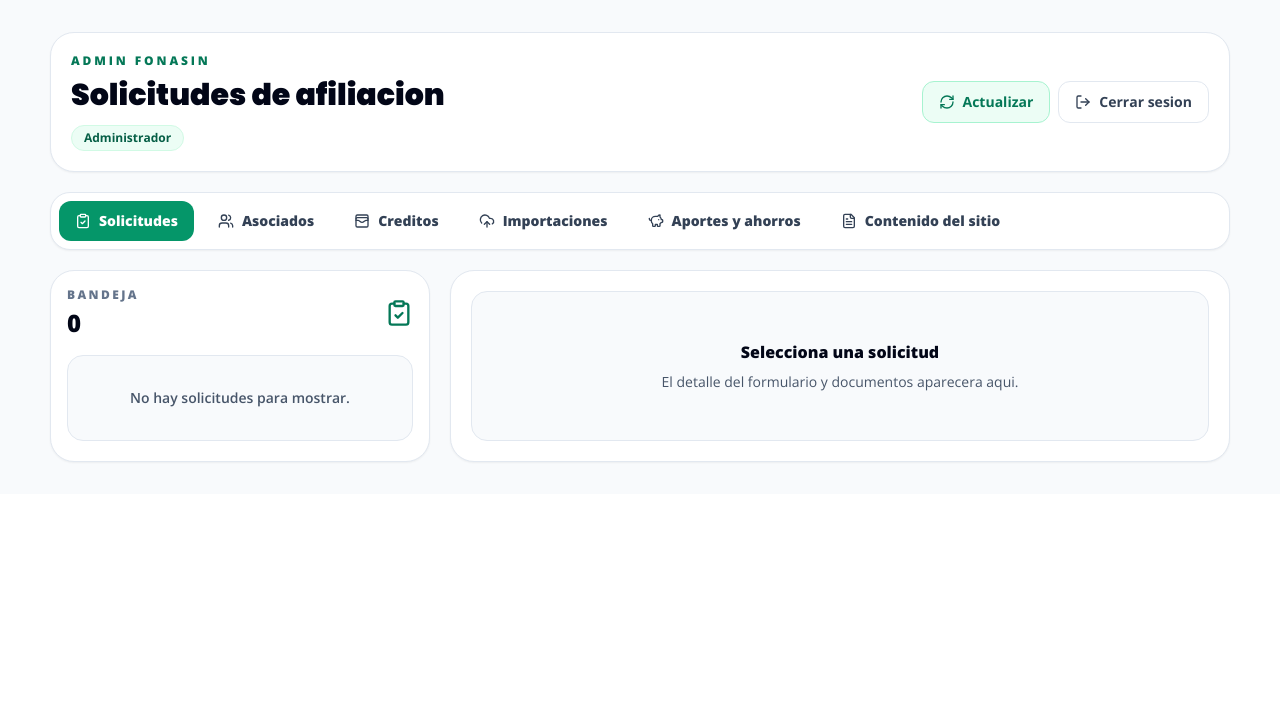
AppRoutes › loads contribution accounts and movements from the administrative panel
Click the button "Aportes y ahorros".
click(724, 221)  # box x1=632 y1=201 x2=817 y2=241
(page scrolled)
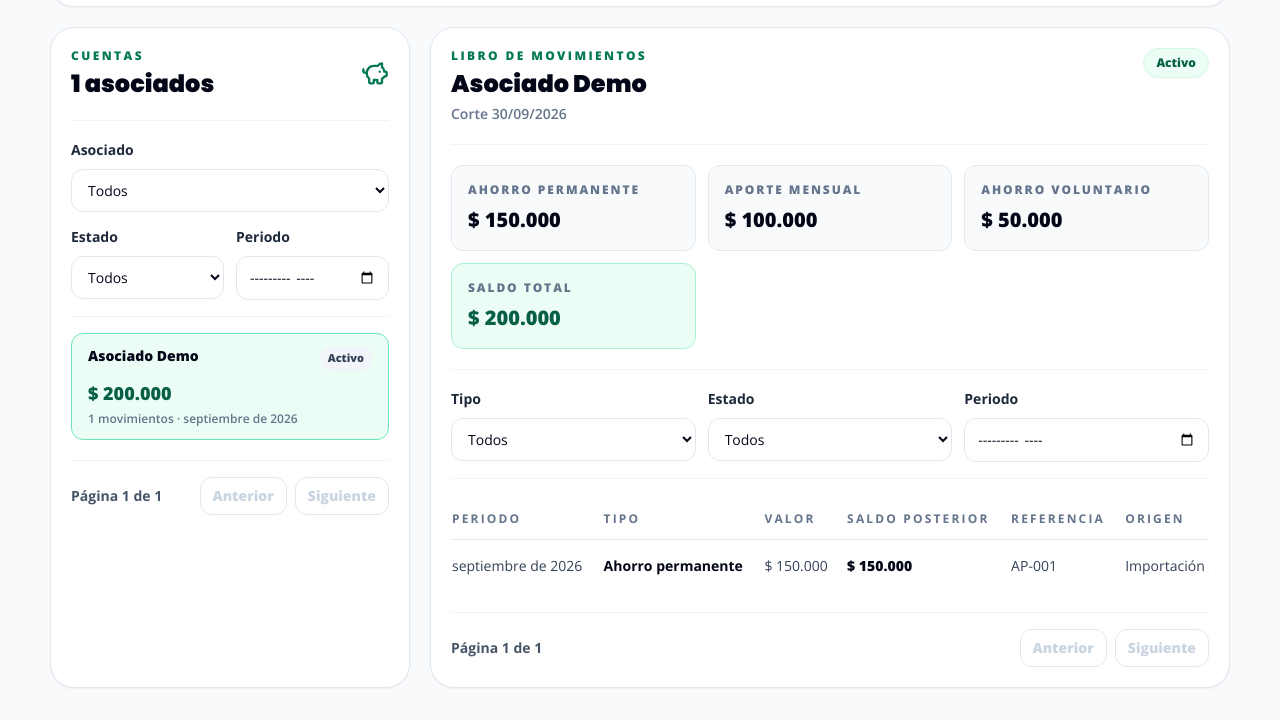
Check: the text "AP-001" is shown, box x1=1010 y1=540 x2=1124 y2=592
